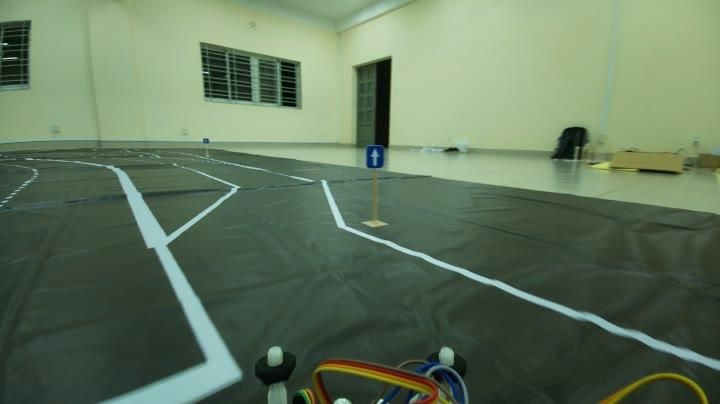onewayroad: (360, 142, 388, 172)
